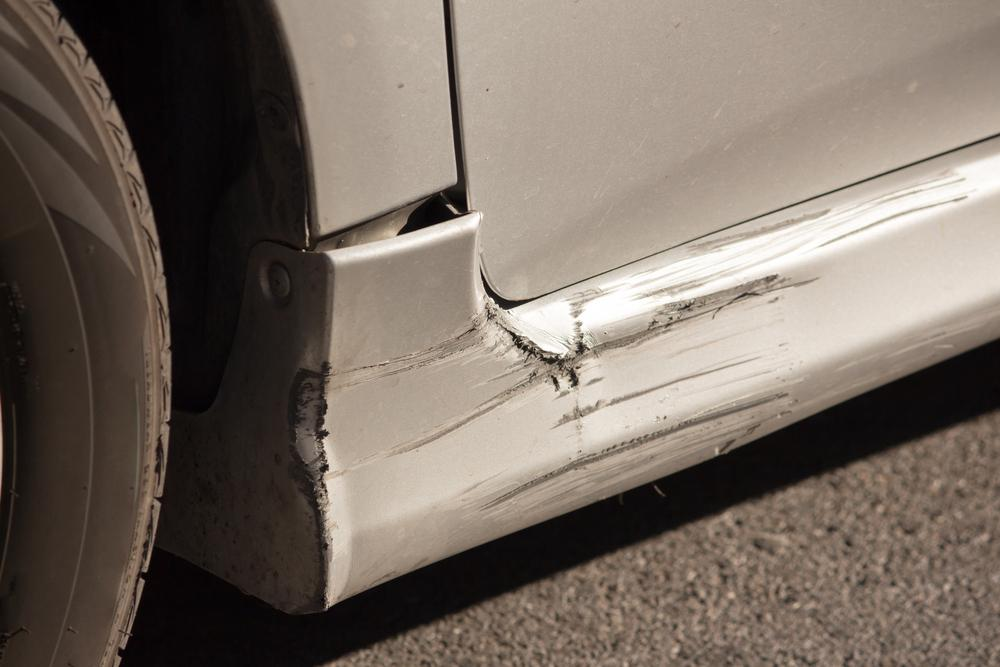scratch: (289, 166, 1000, 524)
